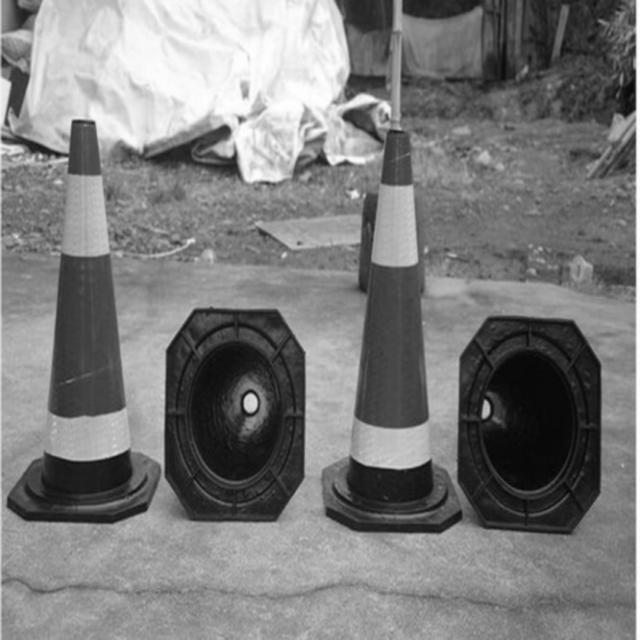reflective_cone: (6, 116, 160, 523), (320, 126, 462, 530), (156, 297, 308, 524), (456, 308, 604, 534)
